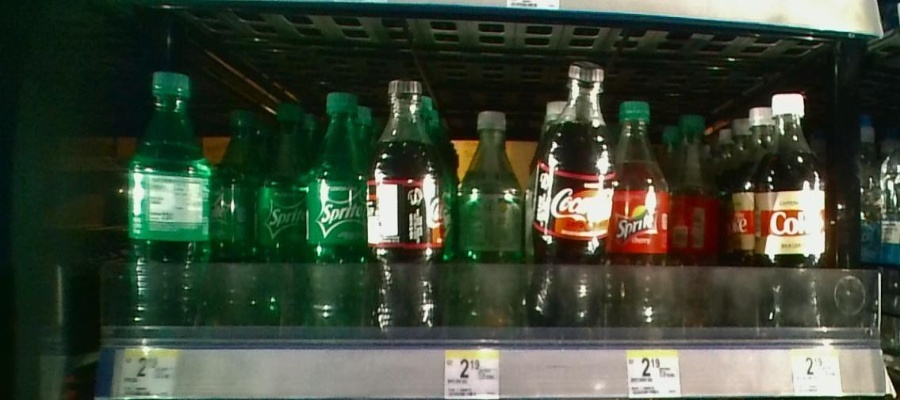bottle: (124, 63, 213, 342), (533, 63, 616, 334), (369, 79, 452, 334), (755, 88, 828, 340), (457, 104, 527, 330), (304, 91, 369, 328), (616, 91, 669, 333), (254, 102, 302, 327), (671, 104, 719, 327)
